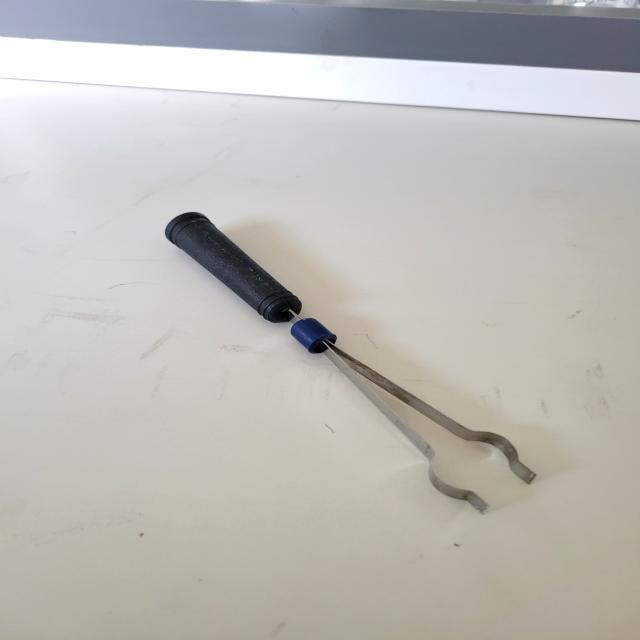TestTube_Holder: (127, 186, 555, 528)
